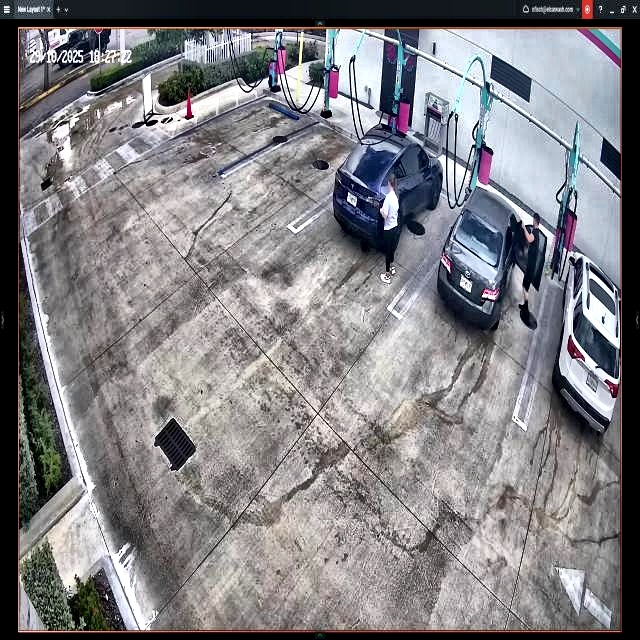Car: (442, 189, 547, 327), (335, 124, 444, 250)
